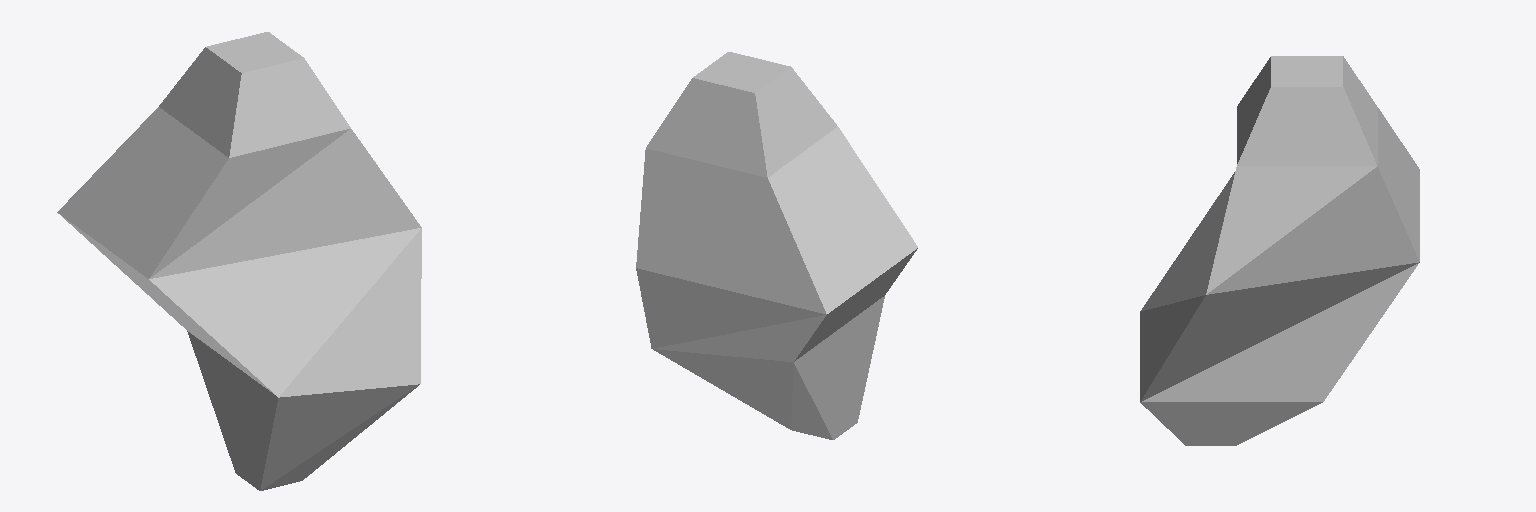
File: Trash13.obj
The picture shows the model from 3 angles: view 1: azimuth 30°, elevation 25°; view 2: azimuth 150°, elevation 25°; view 3: azimuth 270°, elevation 25°; orthographic projection.
Visible parts, largest first — view 1: Trash13; view 2: Trash13; view 3: Trash13.
Boxes of the visible parts, box(x1,y1,x2,y2) form: Trash13: box(57, 32, 421, 490); Trash13: box(636, 52, 917, 439); Trash13: box(1140, 56, 1419, 445).
Bounding box in the file's own units: 6.1 × 8.61 × 5.73.